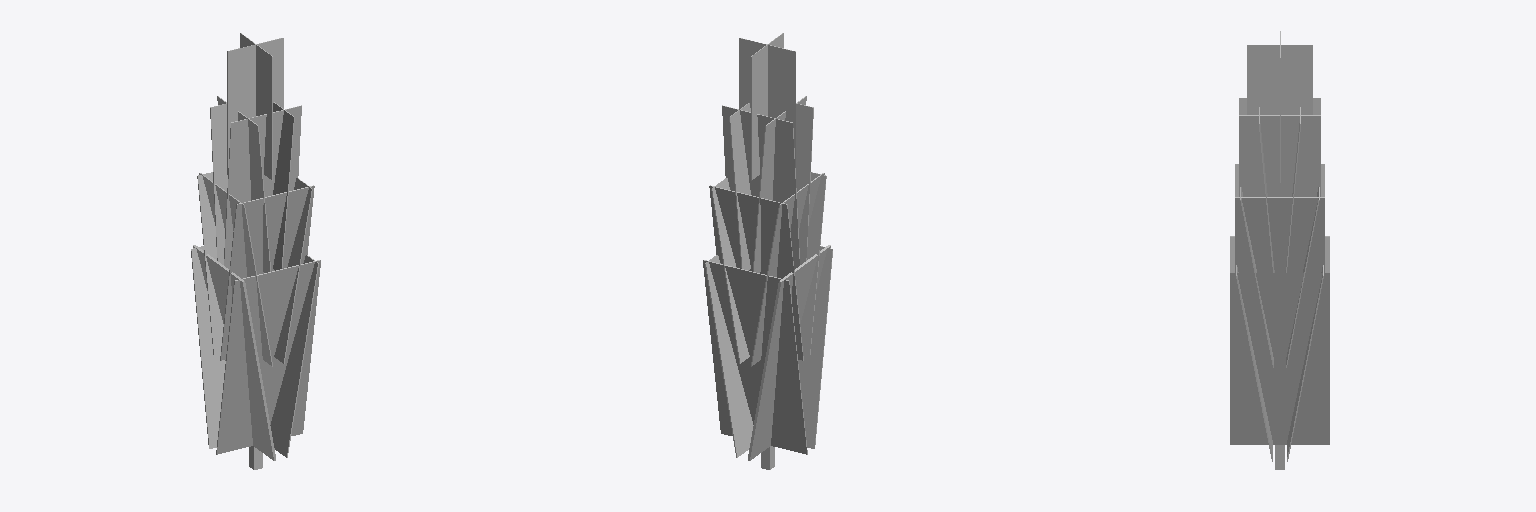
The model's file is cypress_large.obj.
The picture shows the model from 3 angles: view 1: azimuth 30°, elevation 25°; view 2: azimuth 150°, elevation 25°; view 3: azimuth 270°, elevation 25°; orthographic projection.
Visible parts, largest first — view 1: Leaves.015_Plane.048, Leaves.019_Plane.052, Leaves.023_Plane.056, Leaves.016_Plane.049, Leaves.026_Plane.059, Leaves.014_Plane.047, Leaves.017_Plane.050, Leaves.022_Plane.055, Leaves.027_Plane.060, Leaves.018_Plane.051, Leaves.020_Plane.053, Leaves.025_Plane.058 (+2 smaller); view 2: Leaves.014_Plane.047, Leaves.018_Plane.051, Leaves.022_Plane.055, Leaves.016_Plane.049, Leaves.026_Plane.059, Leaves.015_Plane.048, Leaves.017_Plane.050, Leaves.023_Plane.056, Leaves.027_Plane.060, Leaves.019_Plane.052, Leaves.020_Plane.053, Leaves.025_Plane.058 (+2 smaller); view 3: Leaves.017_Plane.050, Leaves.025_Plane.058, Leaves.021_Plane.054, Leaves.027_Plane.060, Leaves.014_Plane.047, Leaves.015_Plane.048.
Boxes of the visible parts, x1,y1,x2,y2 form: Leaves.015_Plane.048: [216, 260, 320, 454]; Leaves.019_Plane.052: [220, 185, 314, 360]; Leaves.023_Plane.056: [224, 105, 301, 269]; Leaves.016_Plane.049: [193, 245, 275, 460]; Leaves.026_Plane.059: [227, 38, 283, 174]; Leaves.014_Plane.047: [191, 246, 225, 448]; Leaves.017_Plane.050: [270, 255, 318, 457]; Leaves.022_Plane.055: [210, 103, 227, 264]; Leaves.027_Plane.060: [240, 33, 272, 180]; Leaves.018_Plane.051: [197, 172, 223, 355]; Leaves.020_Plane.053: [199, 173, 272, 366]; Leaves.025_Plane.058: [273, 102, 294, 270]; Leaves.014_Plane.047: [703, 260, 807, 454]; Leaves.018_Plane.051: [709, 185, 803, 360]; Leaves.022_Plane.055: [722, 105, 799, 269]; Leaves.016_Plane.049: [748, 245, 830, 460]; Leaves.026_Plane.059: [739, 38, 795, 167]; Leaves.015_Plane.048: [798, 246, 832, 448]; Leaves.017_Plane.050: [705, 255, 753, 457]; Leaves.023_Plane.056: [796, 103, 813, 264]; Leaves.027_Plane.060: [751, 33, 783, 180]; Leaves.019_Plane.052: [800, 172, 826, 355]; Leaves.020_Plane.053: [751, 173, 824, 366]; Leaves.025_Plane.058: [729, 103, 750, 270]; Leaves.017_Plane.050: [1230, 273, 1329, 444]; Leaves.025_Plane.058: [1239, 115, 1320, 196]; Leaves.021_Plane.054: [1235, 197, 1324, 272]; Leaves.027_Plane.060: [1247, 45, 1312, 114]; Leaves.014_Plane.047: [1287, 265, 1323, 461]; Leaves.015_Plane.048: [1236, 265, 1272, 461].
Bounding box in the file's own units: 1.96 × 9.17 × 1.96.